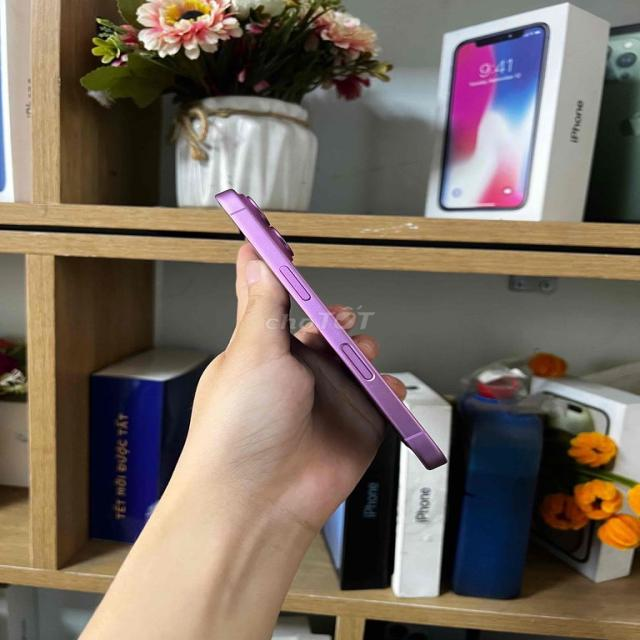gen_16: (209, 187, 452, 470)
